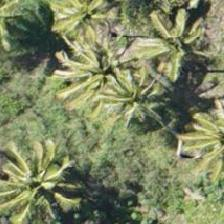coconut_tree: (60, 27, 150, 117), (89, 53, 179, 143), (135, 2, 223, 92), (0, 141, 84, 223), (41, 0, 131, 60)
